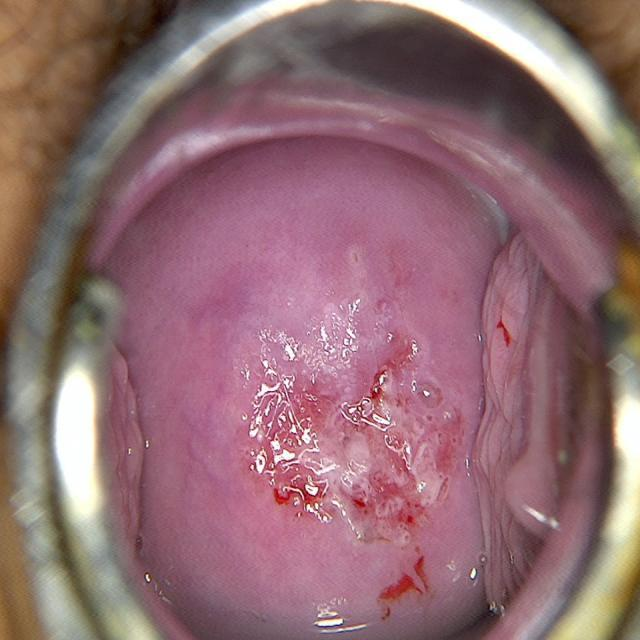cervical_lesion: (227, 238, 477, 569)
